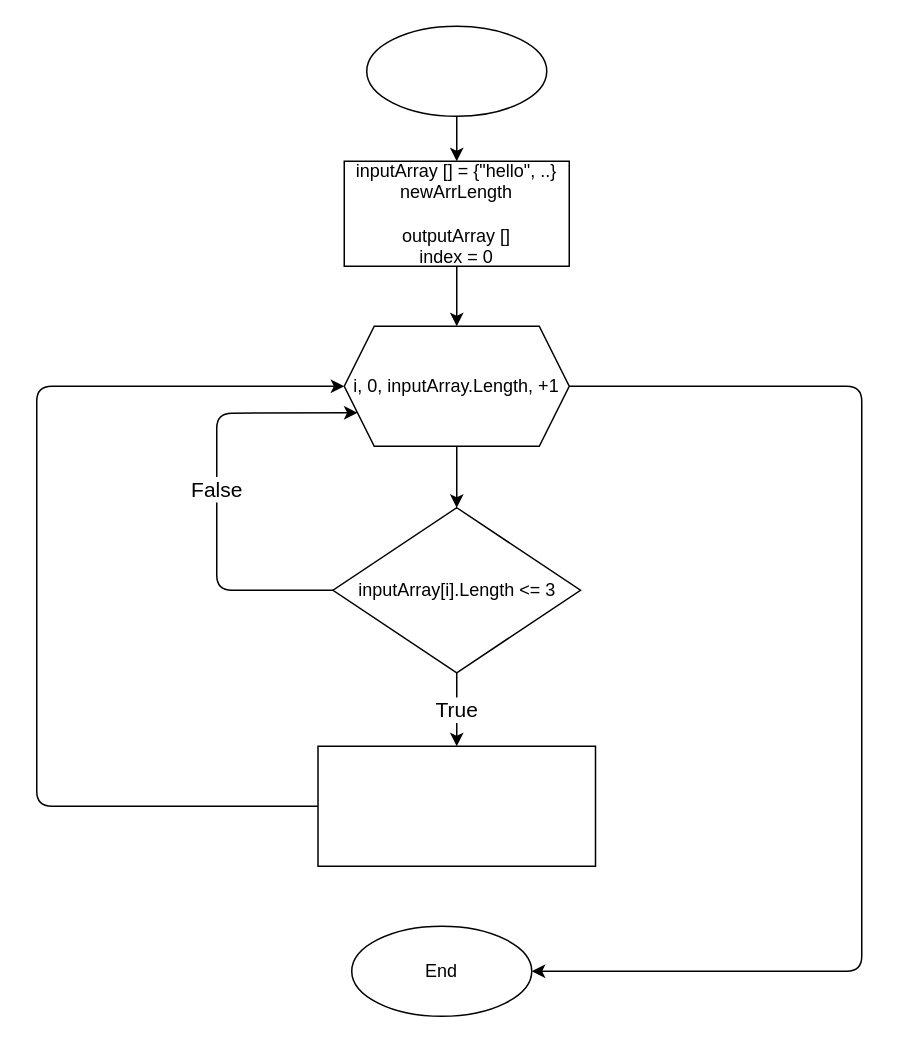
Some shapes in this 900 by 1043 pixel diagram are drawn without their labels. Here are the shapes that lost their labels. From the top down, the centre of each, then its label:
(x=456, y=70): Start
(x=456, y=805): outputArray[index] = inputArray[i] index = index +1
